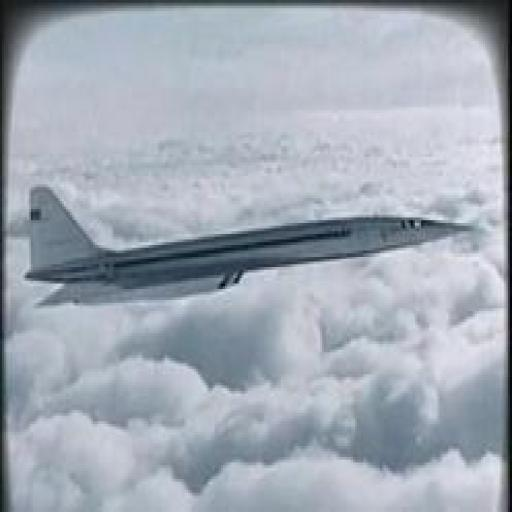aircraft: (24, 184, 480, 308)
